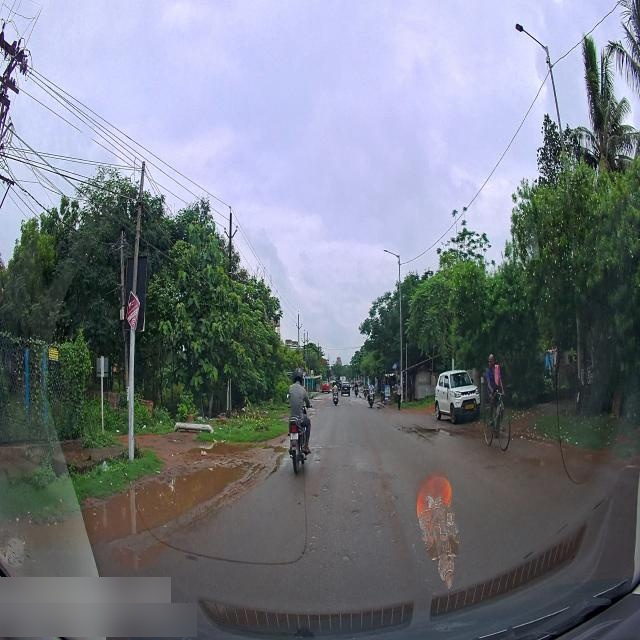pothole: (82, 454, 247, 540), (408, 420, 478, 439)
